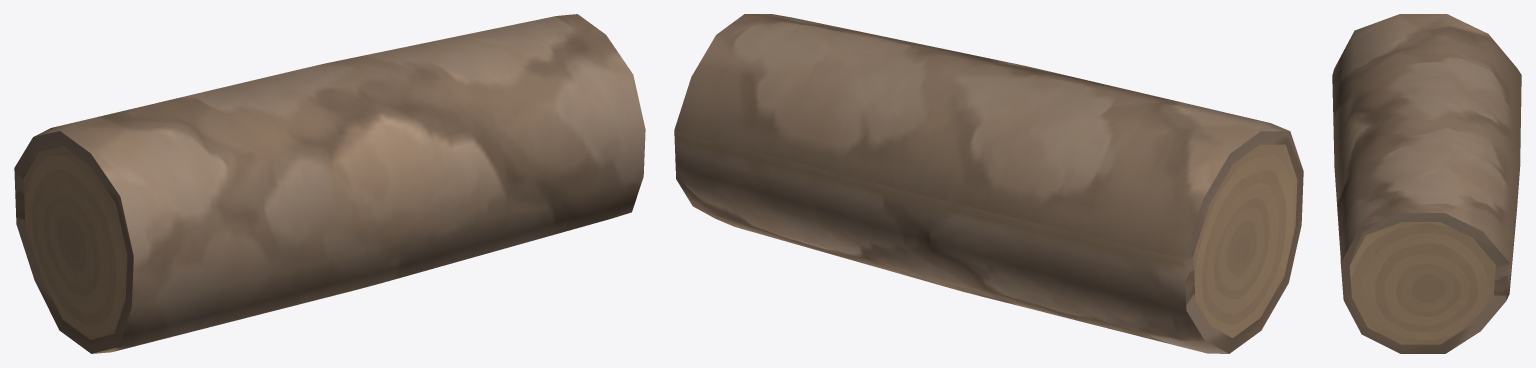
The model's file is WoodenLogDrop.glb.
3 views of the same model, side by side, from view 1: azimuth 30°, elevation 25°; view 2: azimuth 150°, elevation 25°; view 3: azimuth 270°, elevation 25° (orthographic). The views are drawn at different scales.
Visible parts, largest first — view 1: WoodenLogDrop; view 2: WoodenLogDrop; view 3: WoodenLogDrop.
Boxes of the visible parts, x1=… form: WoodenLogDrop: x1=14, y1=14, x2=645, y2=353; WoodenLogDrop: x1=674, y1=14, x2=1303, y2=353; WoodenLogDrop: x1=1332, y1=14, x2=1521, y2=353.
Size of the model in its own units: 0.76 by 0.2914 by 0.3153.
1 material, 1 textured.
